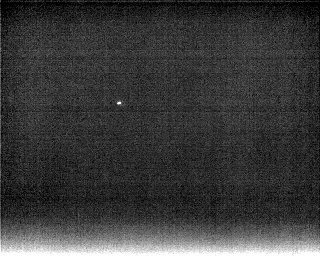BIRD: (115, 98, 124, 107)
